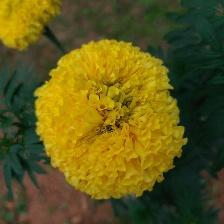marigold: (36, 40, 191, 200)
